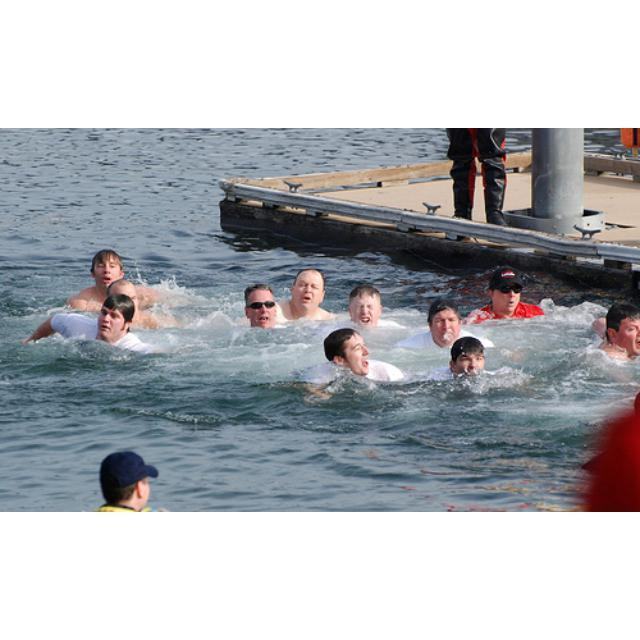human: (25, 293, 151, 348), (95, 447, 159, 511), (405, 300, 494, 346), (465, 269, 545, 320), (312, 325, 377, 387), (79, 249, 144, 304), (590, 304, 639, 360), (278, 268, 335, 316), (460, 338, 513, 377), (346, 282, 386, 329), (239, 285, 282, 328)
